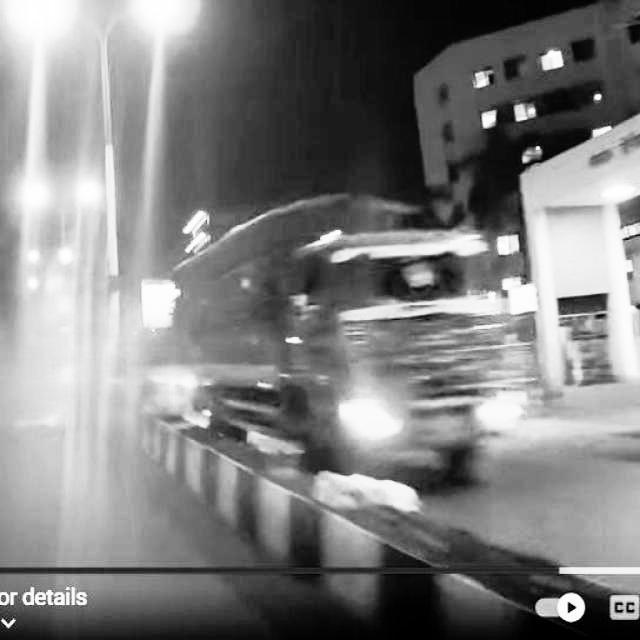Truck: (161, 190, 514, 485)
